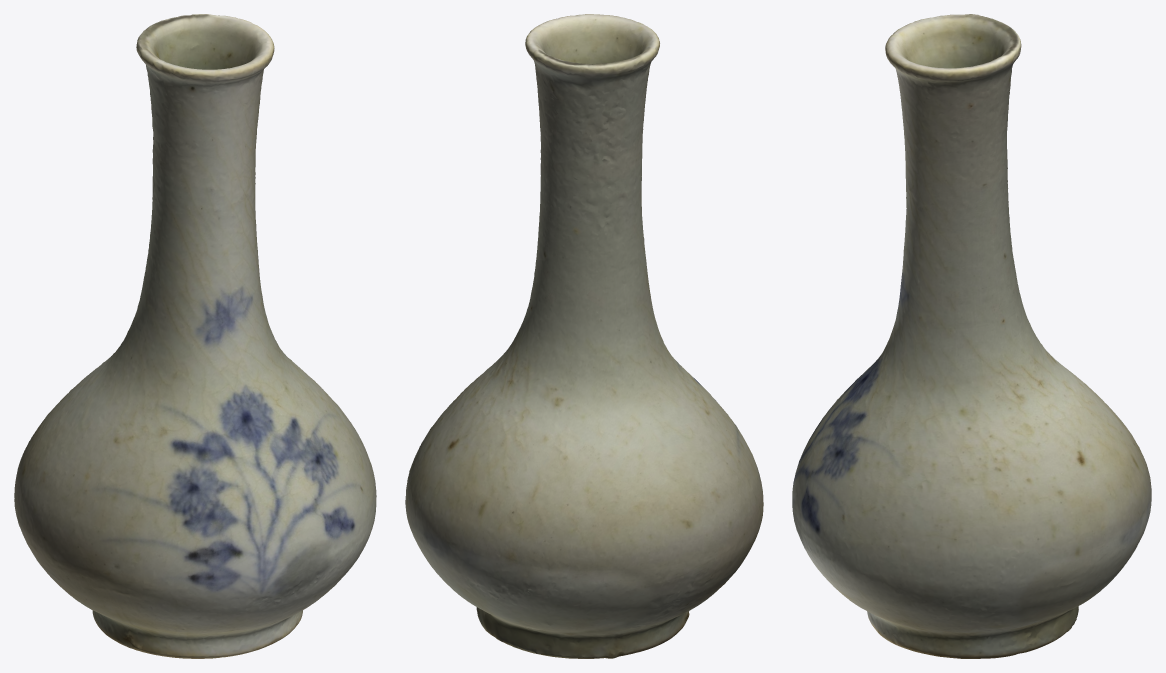
The model's file is kcdf_bottle.glb.
The picture shows the model from 3 angles, left to right: view 1: azimuth 30°, elevation 25°; view 2: azimuth 150°, elevation 25°; view 3: azimuth 270°, elevation 25°; orthographic projection.
Parts seen in each view (by area): view 1: Model; view 2: Model; view 3: Model.
Part boxes in pixels (x1,y1,x2,y2): Model: (14,14,376,658); Model: (405,14,763,658); Model: (792,14,1151,658).
Bounding box in the file's own units: 0.1086 × 0.1931 × 0.1087.
Materials: 1 (1 with a texture image).
